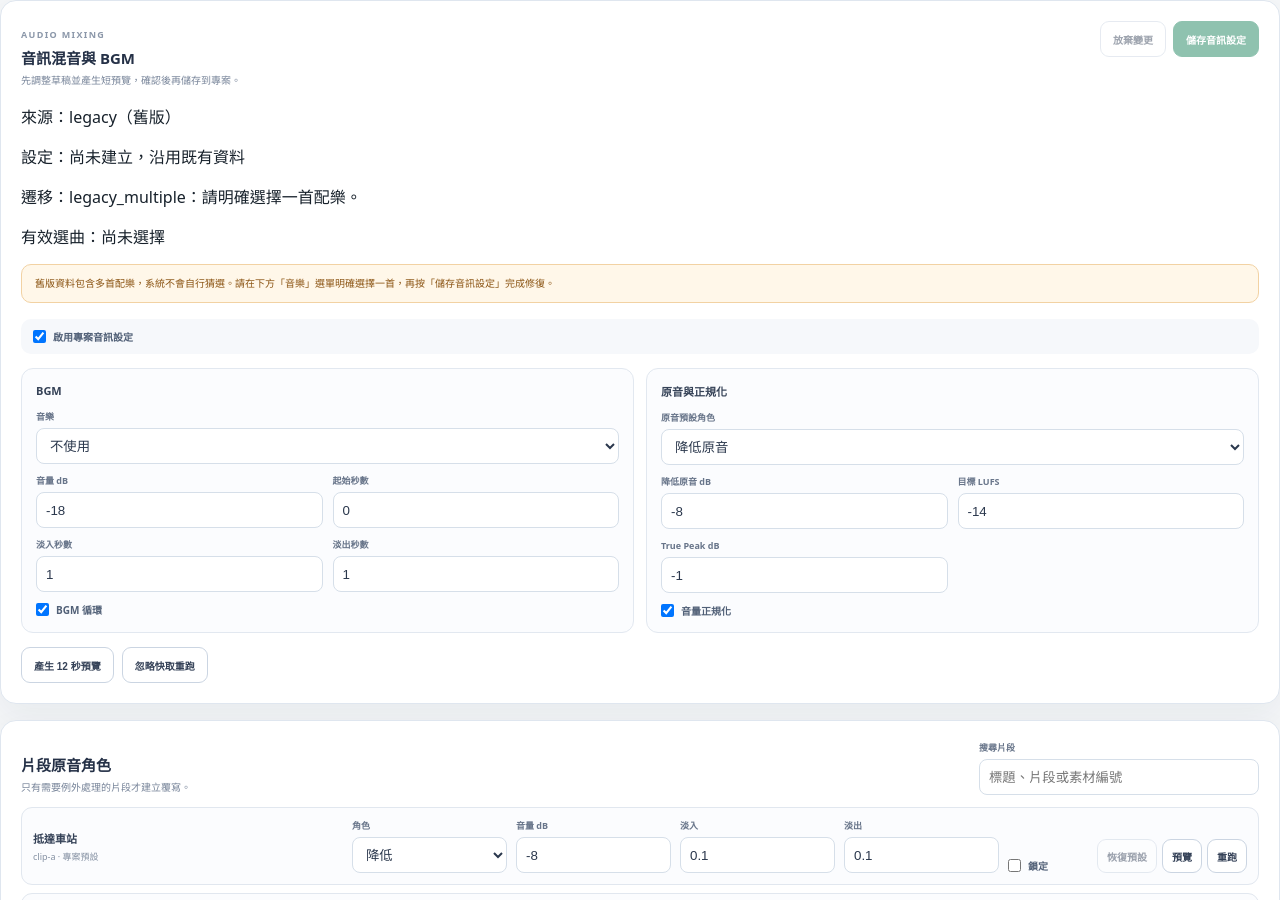
Test: AudioMixingWorkspace › gives legacy multiple users an actionable selection repair
Check: the message shows "請在下方「音樂」選單明確選擇一首", box [35, 276, 555, 290]
Select "City Walk" in the dropdown labelled "音樂": (328, 446) [36, 428, 619, 464]
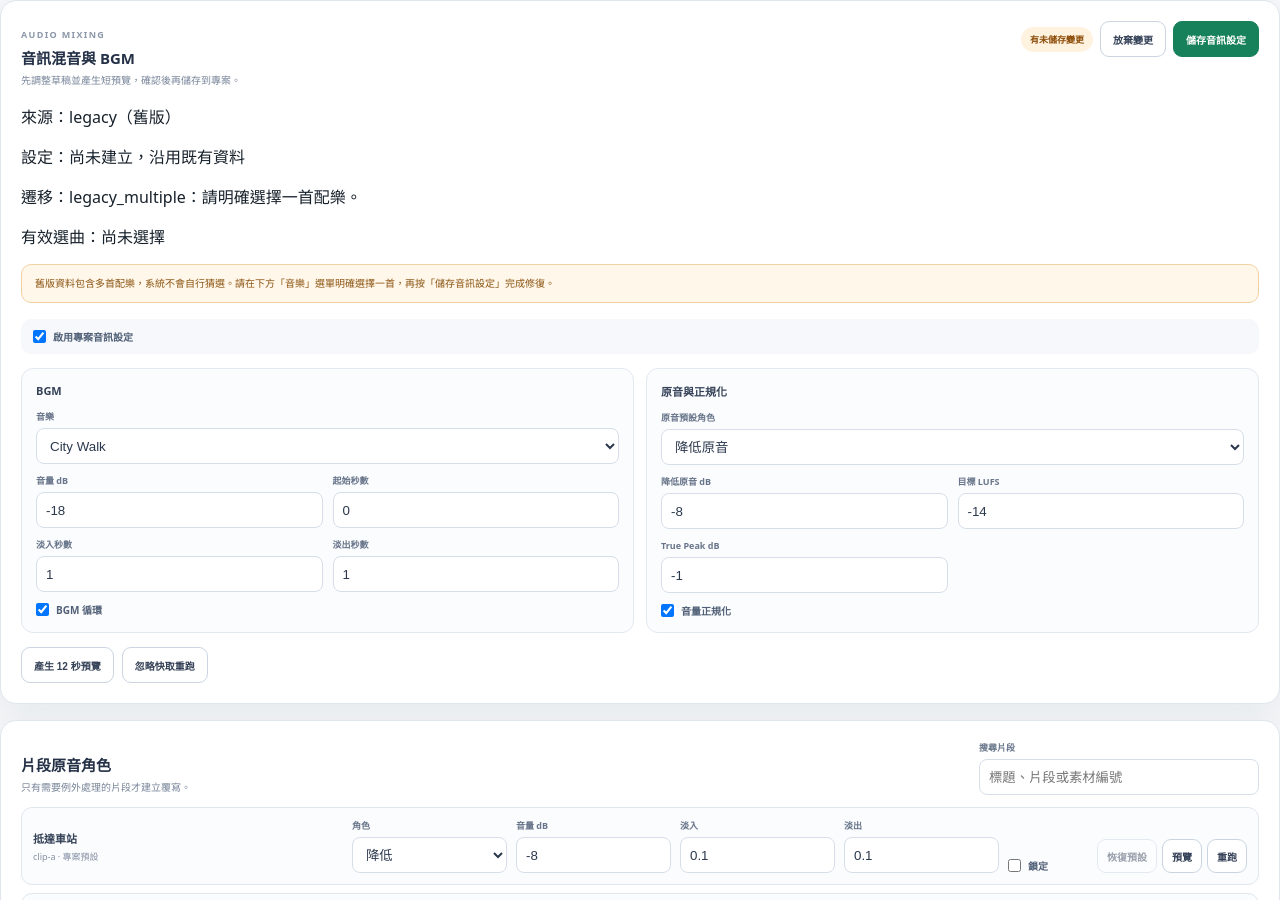
Check: the button "儲存音訊設定" is enabled, box [1173, 21, 1259, 57]
